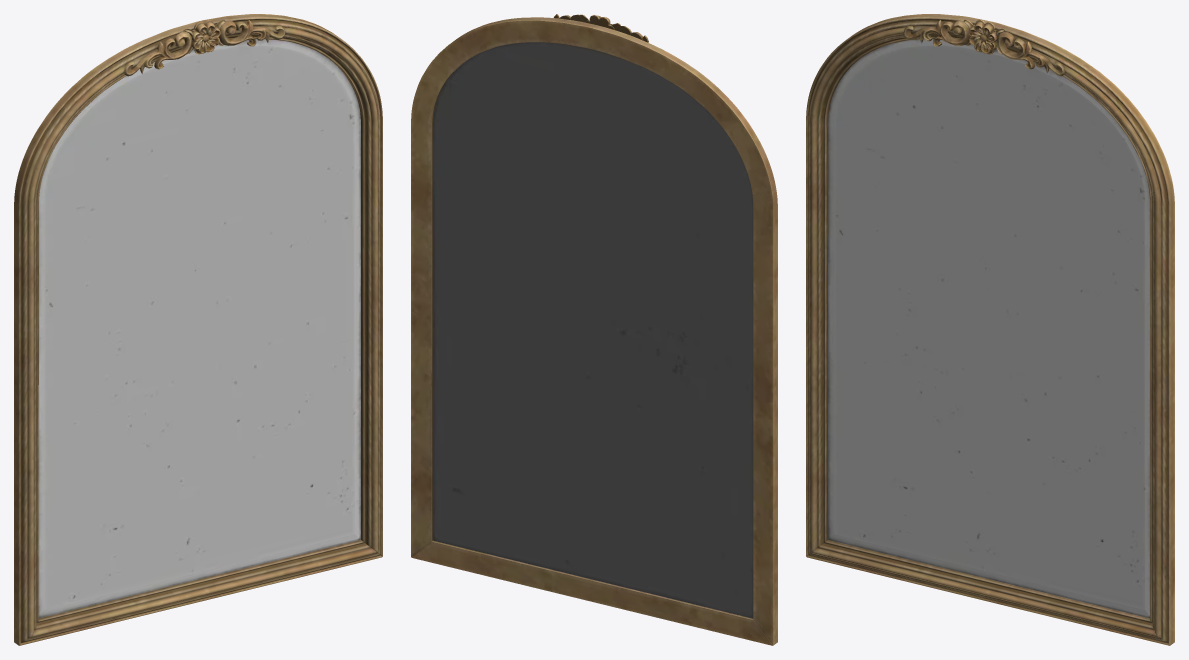
Rendered from mirror.glb.
3 renders of one model, left to right at view 1: azimuth 30°, elevation 25°; view 2: azimuth 150°, elevation 25°; view 3: azimuth 330°, elevation 25°, orthographic.
Parts seen in each view (by area): view 1: ornate_mirror_01; view 2: ornate_mirror_01; view 3: ornate_mirror_01.
Boxes of the visible parts, left/top/right/bottom form: ornate_mirror_01: left=14, top=14, right=382, bottom=645; ornate_mirror_01: left=411, top=14, right=777, bottom=645; ornate_mirror_01: left=806, top=14, right=1174, bottom=645.
Bounding box in the file's own units: 0.4865 × 0.7442 × 0.026.
1 material, 1 textured.
